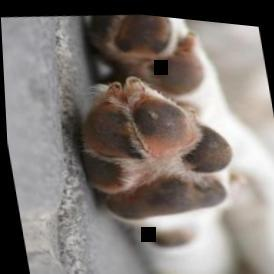keratosis: (126, 82, 200, 164), (68, 86, 143, 163)
